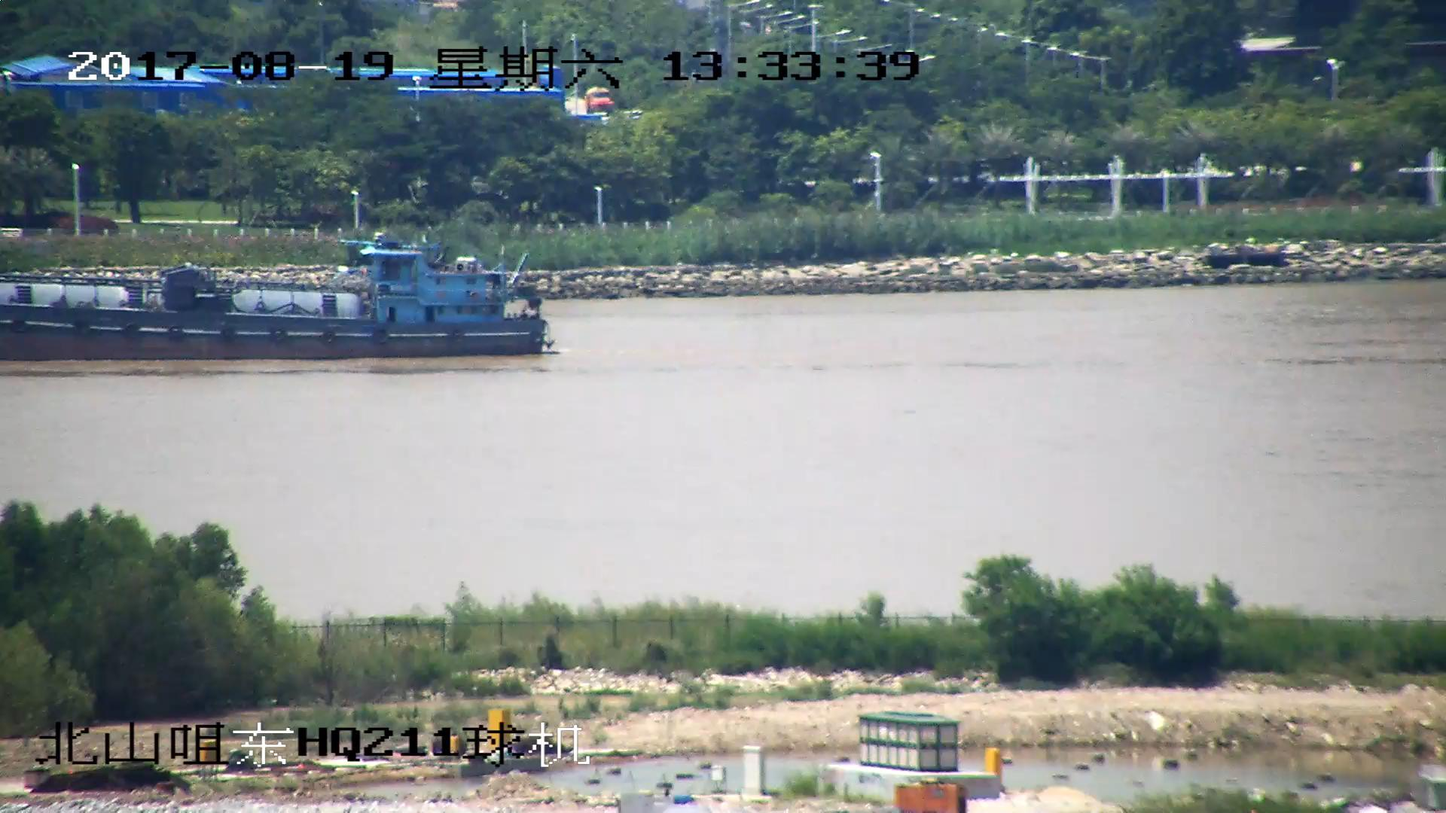bulk cargo carrier: (0, 236, 554, 355)
